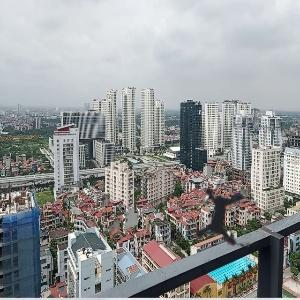drone: (156, 147, 290, 281)
